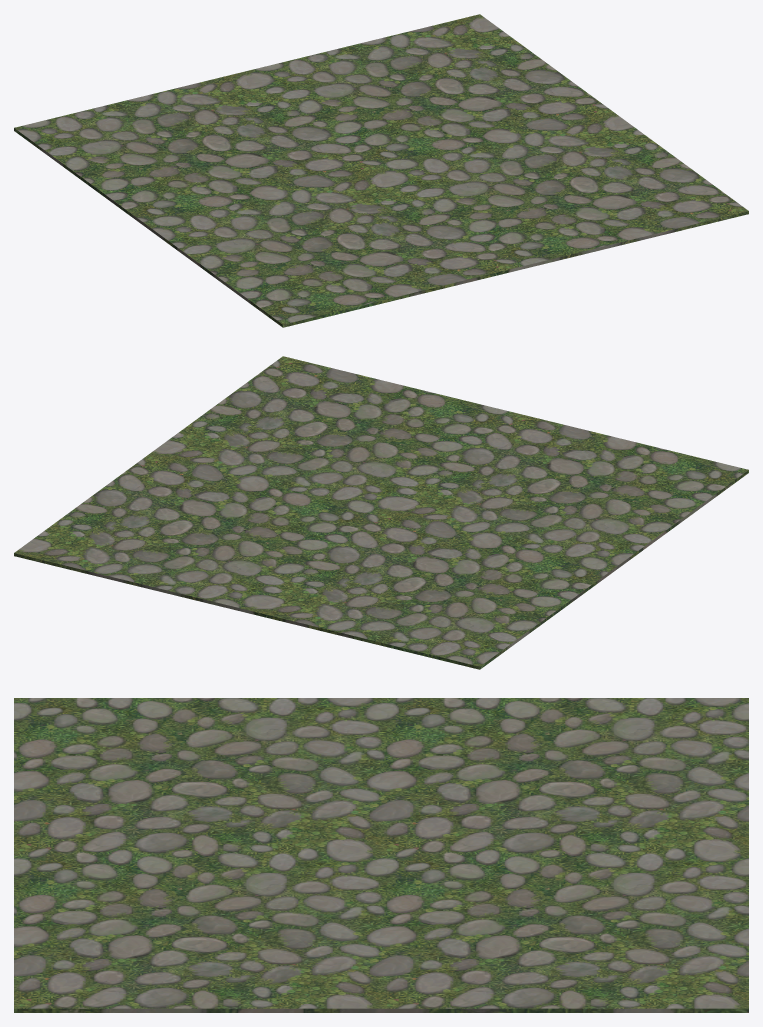
Rendered from Zen_Ground.glb.
3 views of the same model, one above another, from view 1: azimuth 30°, elevation 25°; view 2: azimuth 150°, elevation 25°; view 3: azimuth 270°, elevation 25° (orthographic). The views are drawn at different scales.
Parts seen in each view (by area): view 1: Cube; view 2: Cube; view 3: Cube.
Boxes of the visible parts, <box> form: Cube: <box>14,14,748,327</box>; Cube: <box>14,356,748,669</box>; Cube: <box>14,698,748,1012</box>.
Bounding box in the file's own units: 16 × 0.1 × 16.
1 material, 1 textured.
